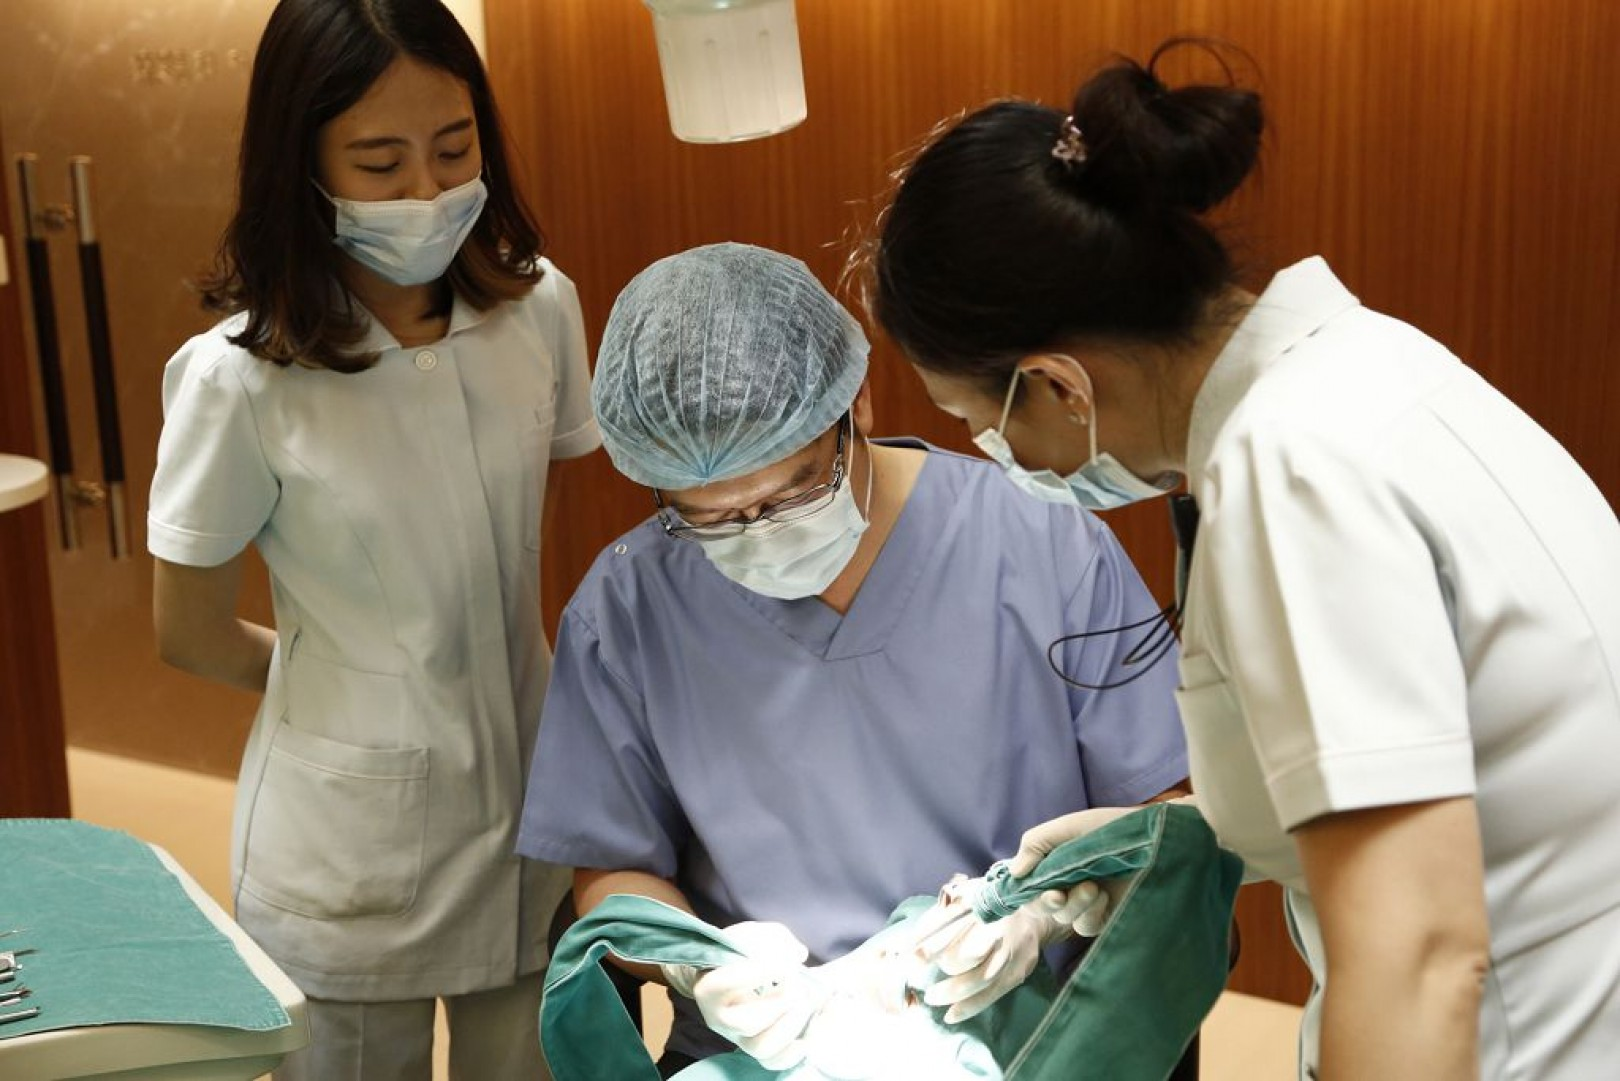mask: (696, 486, 872, 600), (328, 177, 485, 288), (972, 433, 1166, 512)
